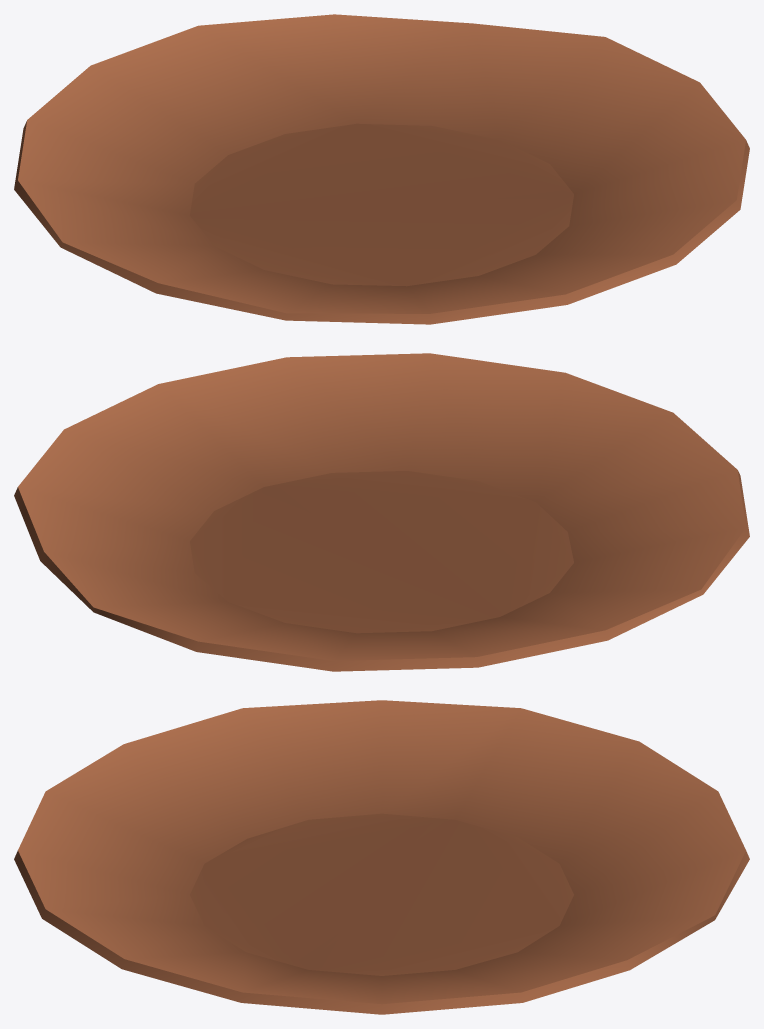
The model's file is obj_plateRound_B_LOW.FBX.
3 views of the same model, one above another, from view 1: azimuth 30°, elevation 25°; view 2: azimuth 150°, elevation 25°; view 3: azimuth 270°, elevation 25° (orthographic).
Visible parts, largest first — view 1: obj_plateRound_B_LOW; view 2: obj_plateRound_B_LOW; view 3: obj_plateRound_B_LOW.
Part boxes in pixels (x1,y1,x2,y2): obj_plateRound_B_LOW: (14, 14, 749, 324); obj_plateRound_B_LOW: (14, 353, 749, 671); obj_plateRound_B_LOW: (14, 700, 749, 1014).
Size of the model in its own units: 1.33 by 0.1165 by 1.33.
